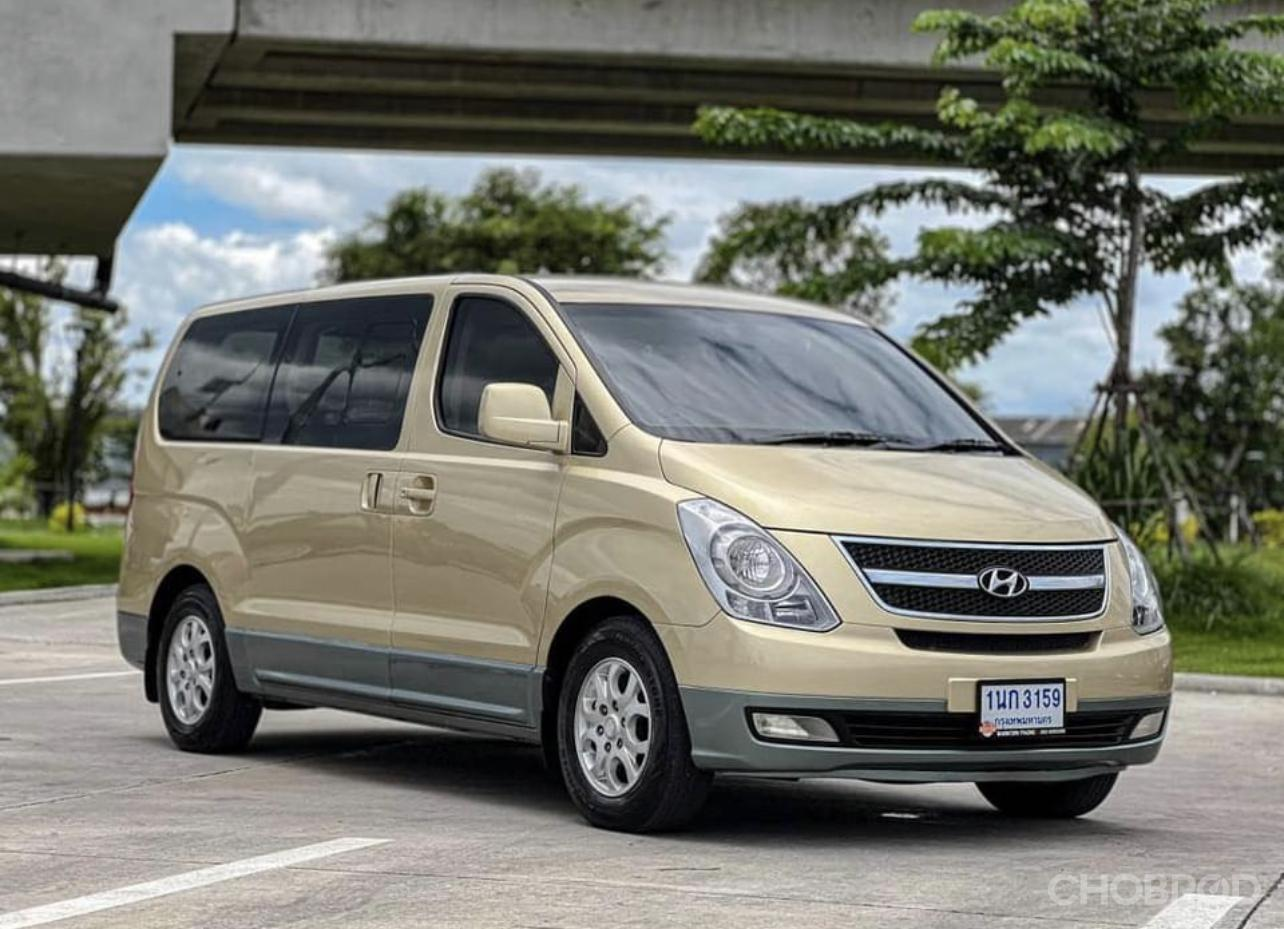license-plate: (971, 673, 1075, 743)
